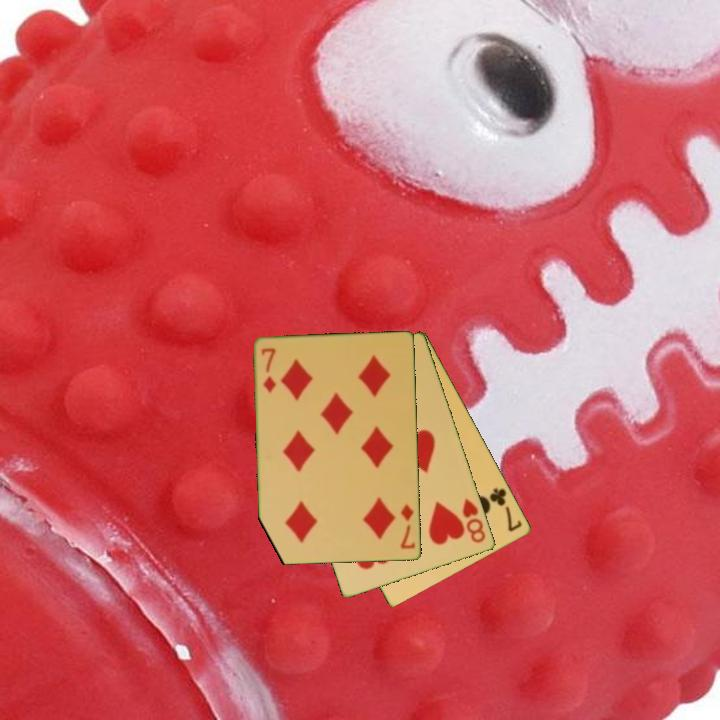7c: (486, 484, 525, 535)
7d: (397, 501, 418, 552), (258, 345, 279, 396)
8h: (459, 494, 489, 546)
